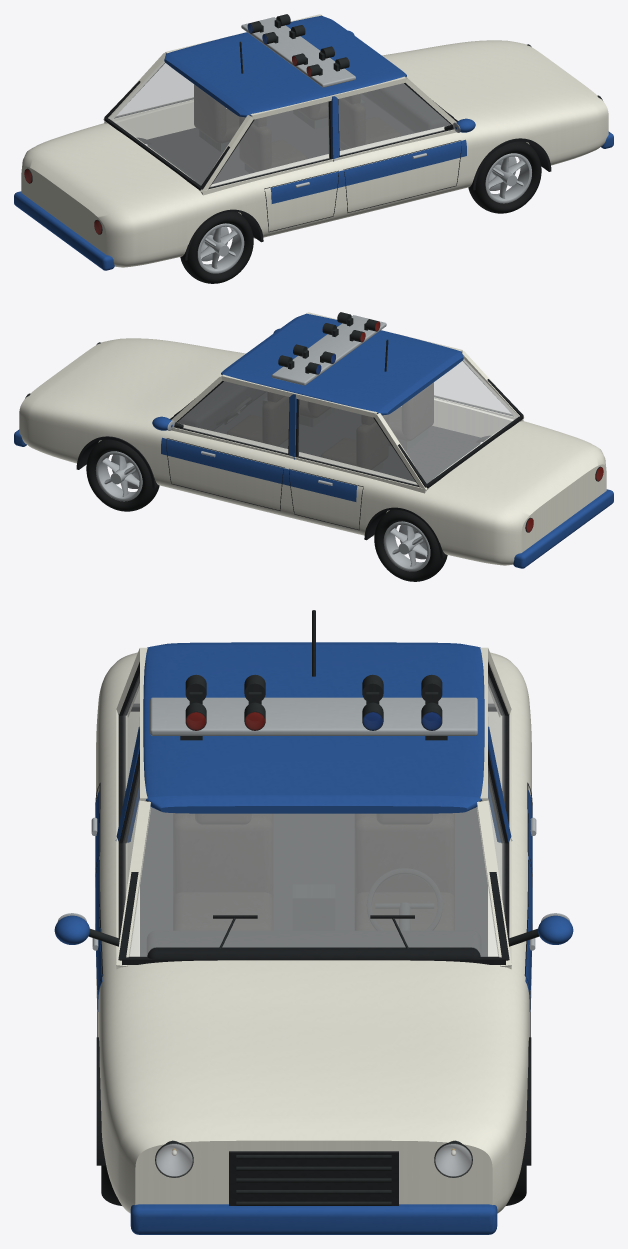
File: police-sedan-with-generic-livery.glb
The picture shows the model from 3 angles, top to bottom: view 1: azimuth 30°, elevation 25°; view 2: azimuth 150°, elevation 25°; view 3: azimuth 270°, elevation 25°; orthographic projection. The views are drawn at different scales.
Visible parts, largest first — view 1: Patrol sculpted body with cut cabin and wheel arches, Patrol shaped finite roof panel, Patrol rear screen finite transparent pane, Patrol rear door glazing -1 finite transparent pane, Patrol cabin floor, Patrol front door glazing -1 finite transparent pane, Patrol generic blue side livery -1, Patrol light bar base, Patrol closed dashboard, Patrol wheel 1410.0 -1 rounded tyre carcass, Patrol wheel -1410.0 -1 rounded tyre carcass, Patrol rear door glazing 1 finite transparent pane (+16 smaller); view 2: Patrol sculpted body with cut cabin and wheel arches, Patrol shaped finite roof panel, Patrol rear screen finite transparent pane, Patrol rear door glazing 1 finite transparent pane, Patrol cabin floor, Patrol front door glazing 1 finite transparent pane, Patrol generic blue side livery 1, Patrol light bar base, Patrol wheel 1410.0 1 rounded tyre carcass, Patrol wheel -1410.0 1 rounded tyre carcass, Patrol closed dashboard, Patrol rear door glazing -1 finite transparent pane (+16 smaller); view 3: Patrol sculpted body with cut cabin and wheel arches, Patrol windscreen finite transparent pane, Patrol shaped finite roof panel, Patrol cabin floor, Patrol bumper 1, Patrol light bar base, Patrol closed dashboard, Patrol seat back 0 -1, Patrol seat back 0 1, Patrol grille backing, Patrol seat cushion 0 -1, Patrol seat cushion 0 1 (+19 smaller).
Part boxes in pixels (x1,y1,x2,y2): Patrol sculpted body with cut cabin and wheel arches: (21, 40, 608, 267); Patrol shaped finite roof panel: (164, 15, 406, 117); Patrol rear screen finite transparent pane: (109, 61, 245, 185); Patrol rear door glazing -1 finite transparent pane: (210, 101, 329, 187); Patrol cabin floor: (147, 94, 414, 185); Patrol front door glazing -1 finite transparent pane: (339, 83, 450, 155); Patrol generic blue side livery -1: (270, 139, 466, 203); Patrol light bar base: (241, 17, 355, 87); Patrol closed dashboard: (361, 83, 453, 132); Patrol wheel 1410.0 -1 rounded tyre carcass: (468, 141, 541, 213); Patrol wheel -1410.0 -1 rounded tyre carcass: (180, 211, 253, 283); Patrol rear door glazing 1 finite transparent pane: (115, 63, 193, 117); Patrol sculpted body with cut cabin and wheel arches: (19, 338, 606, 565); Patrol shaped finite roof panel: (221, 313, 463, 415); Patrol rear screen finite transparent pane: (382, 359, 518, 483); Patrol rear door glazing 1 finite transparent pane: (298, 399, 417, 485); Patrol cabin floor: (213, 392, 480, 483); Patrol front door glazing 1 finite transparent pane: (177, 381, 288, 453); Patrol generic blue side livery 1: (161, 437, 357, 501); Patrol light bar base: (272, 315, 386, 385); Patrol wheel 1410.0 1 rounded tyre carcass: (86, 439, 159, 511); Patrol wheel -1410.0 1 rounded tyre carcass: (374, 509, 447, 581); Patrol closed dashboard: (174, 381, 266, 430); Patrol rear door glazing -1 finite transparent pane: (434, 361, 512, 415); Patrol sculpted body with cut cabin and wheel arches: (96, 652, 531, 1213); Patrol windscreen finite transparent pane: (129, 807, 498, 956); Patrol shaped finite roof panel: (143, 642, 484, 813); Patrol cabin floor: (140, 807, 487, 956); Patrol bumper 1: (130, 1204, 497, 1234); Patrol light bar base: (150, 697, 477, 735); Patrol closed dashboard: (146, 930, 481, 962); Patrol seat back 0 -1: (173, 815, 273, 896); Patrol seat back 0 1: (354, 815, 454, 896); Patrol grille backing: (229, 1151, 398, 1205); Patrol seat cushion 0 -1: (173, 892, 273, 930); Patrol seat cushion 0 1: (354, 892, 454, 930).
Bounding box in the file's own units: 5.01 × 1.76 × 2.2.
Materials: 14 (14 with a texture image).
